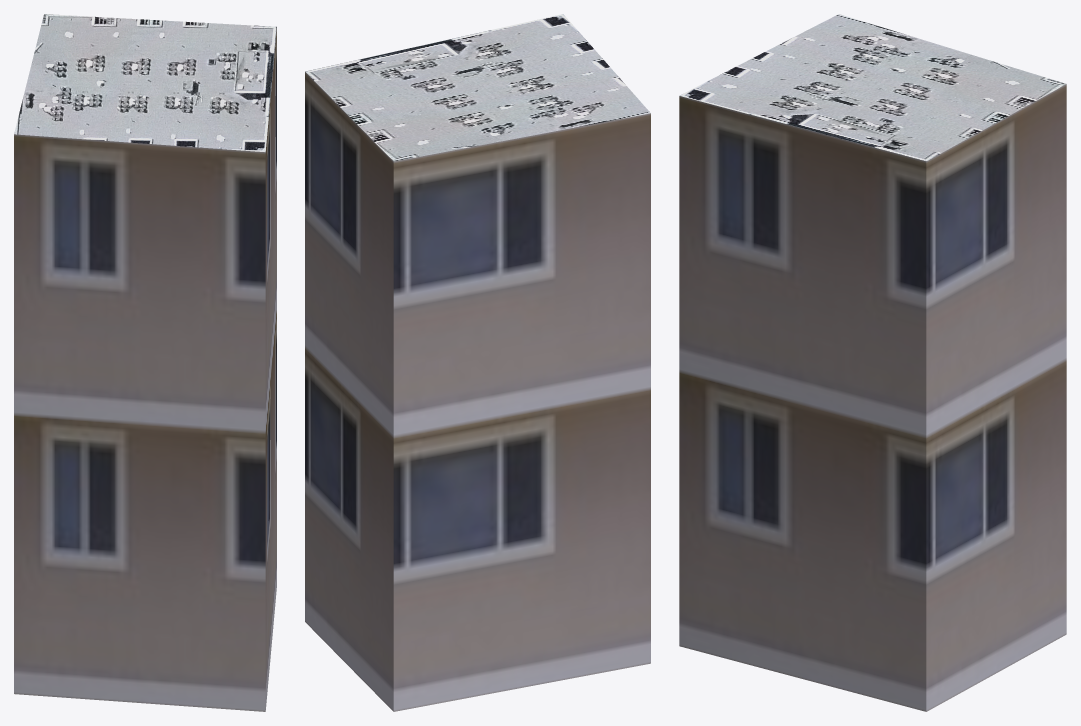
Rendered from ResTex__134.fbx.
The picture shows the model from 3 angles, left to right: view 1: azimuth 30°, elevation 25°; view 2: azimuth 150°, elevation 25°; view 3: azimuth 270°, elevation 25°; orthographic projection.
Parts seen in each view (by area): view 1: CityEngineMaterial_21_m, CityEngineMaterial_8_m; view 2: CityEngineMaterial_21_m, CityEngineMaterial_8_m; view 3: CityEngineMaterial_21_m, CityEngineMaterial_8_m.
Part boxes in pixels (<box>): CityEngineMaterial_21_m: <box>14,28,276,711</box>; CityEngineMaterial_8_m: <box>14,14,276,152</box>; CityEngineMaterial_21_m: <box>305,72,650,711</box>; CityEngineMaterial_8_m: <box>305,14,650,161</box>; CityEngineMaterial_21_m: <box>679,84,1066,711</box>; CityEngineMaterial_8_m: <box>679,14,1065,161</box>.
Bounding box in the file's own units: 3.45 × 6 × 3.83.
Materials: 2 (2 with a texture image).
